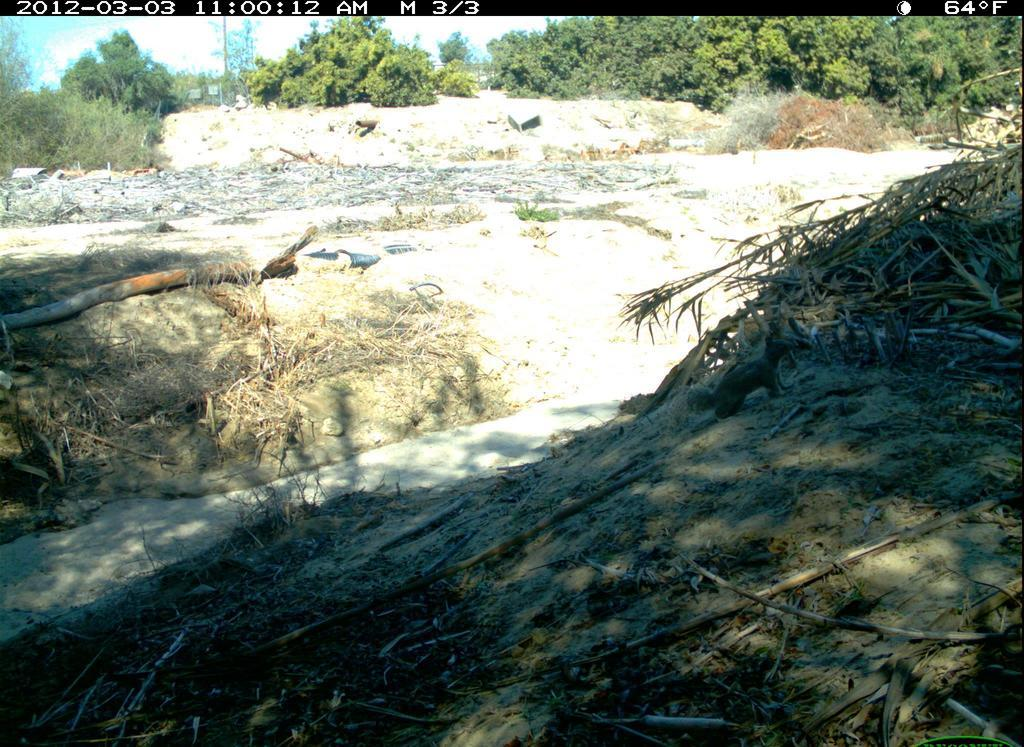squirrel: (683, 329, 798, 429)
